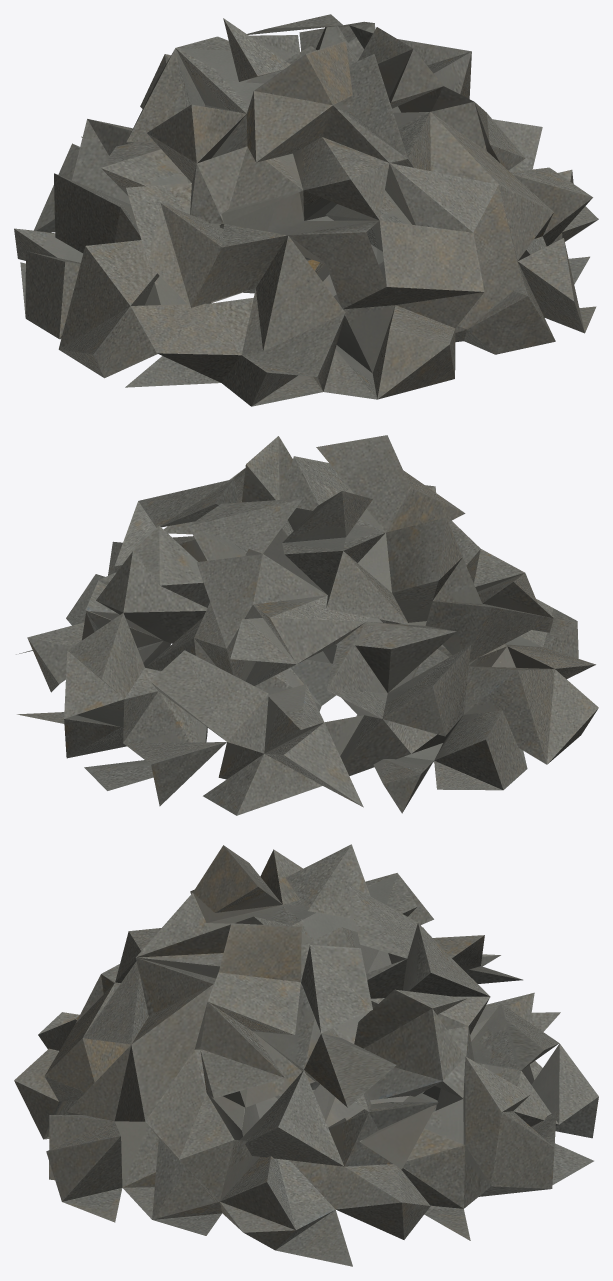
Rendered from rubble.glb.
3 renders of one model, top to bottom at view 1: azimuth 30°, elevation 25°; view 2: azimuth 150°, elevation 25°; view 3: azimuth 270°, elevation 25°, orthographic. The views are drawn at different scales.
Size of the model in its own units: 1.85 by 0.8741 by 1.73.
1 material, 1 textured.
